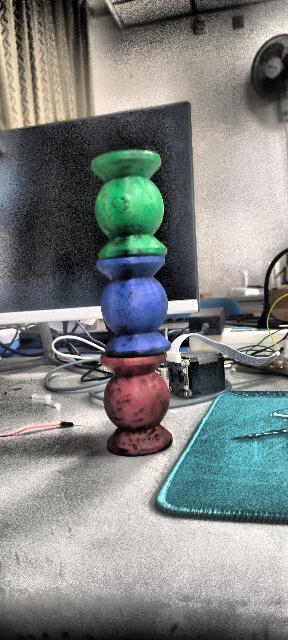blue: (93, 255, 175, 358)
green: (88, 147, 169, 256)
red: (99, 352, 175, 459)
